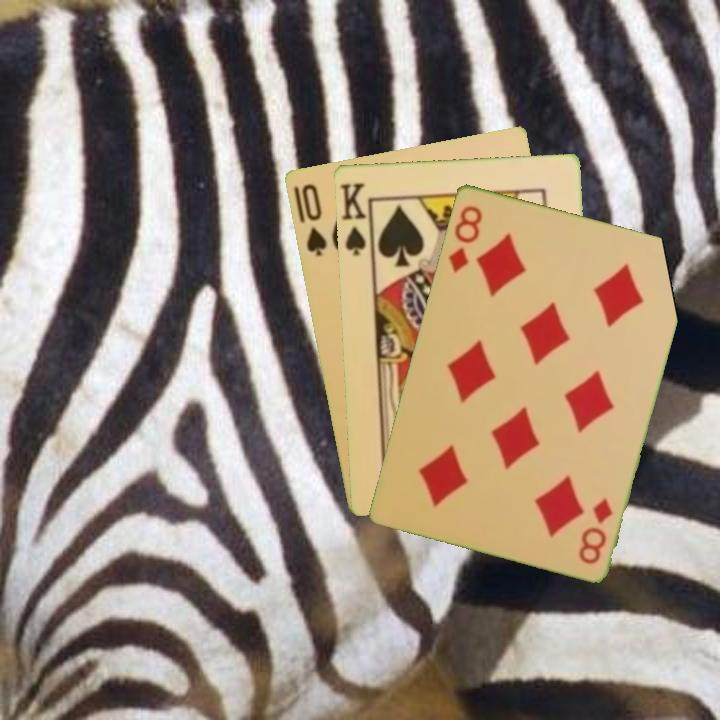10s: (297, 180, 330, 259)
8d: (444, 201, 485, 275), (574, 494, 615, 567)
Ks: (337, 179, 369, 258)
